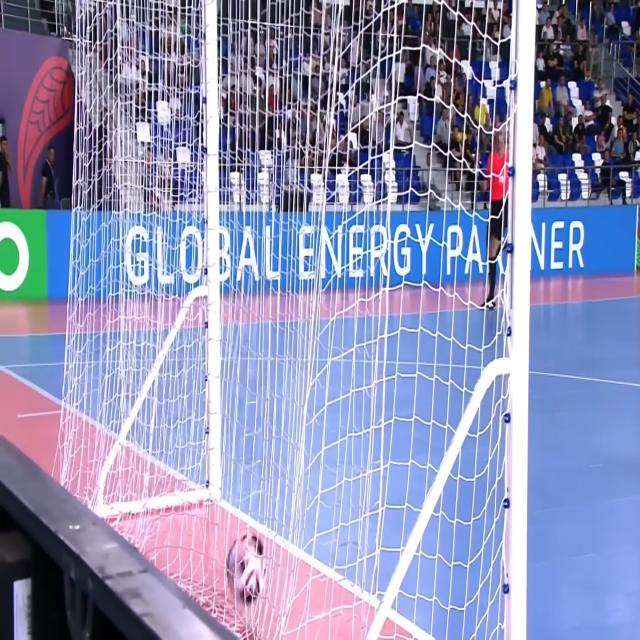Ball: (220, 517, 265, 616)
Goal: (75, 0, 527, 609)
Referee: (480, 129, 511, 307)
